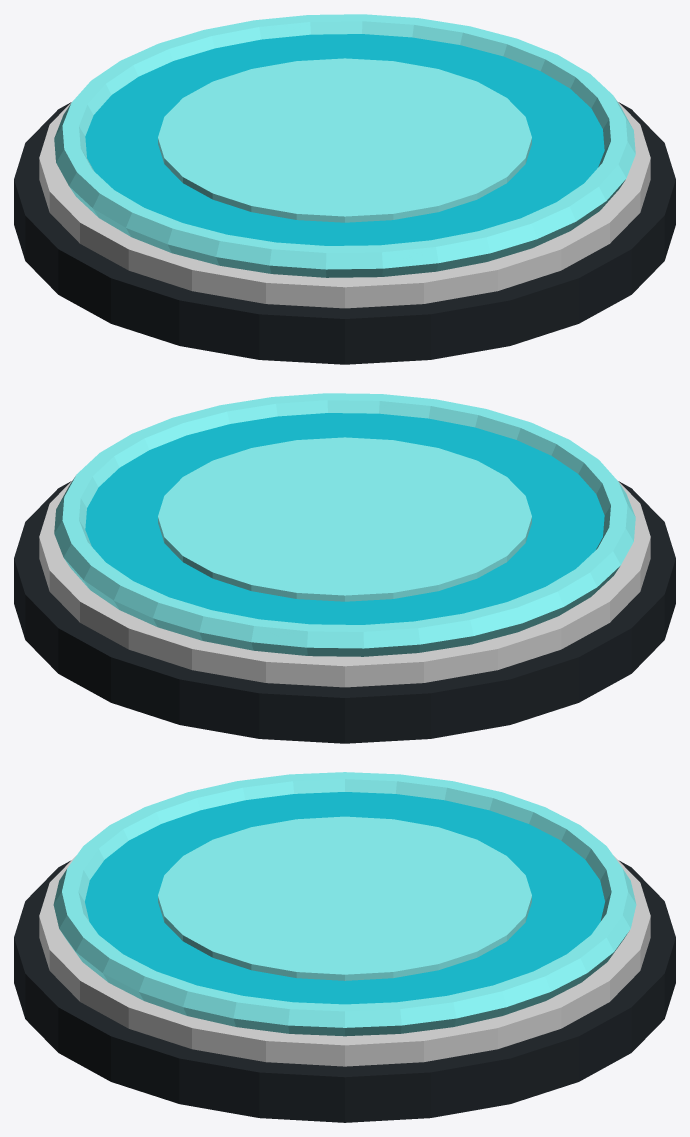
The model's file is terrain-teleport.glb.
The picture shows the model from 3 angles, top to bottom: view 1: azimuth 30°, elevation 25°; view 2: azimuth 150°, elevation 25°; view 3: azimuth 270°, elevation 25°; orthographic projection.
Visible parts, largest first — view 1: terrain-teleport; view 2: terrain-teleport; view 3: terrain-teleport.
Boxes of the visible parts, x1=… form: terrain-teleport: x1=14, y1=14, x2=675, y2=364; terrain-teleport: x1=14, y1=393, x2=675, y2=743; terrain-teleport: x1=14, y1=772, x2=675, y2=1122.
Bounding box in the file's own units: 0.92 × 0.1399 × 0.92.
